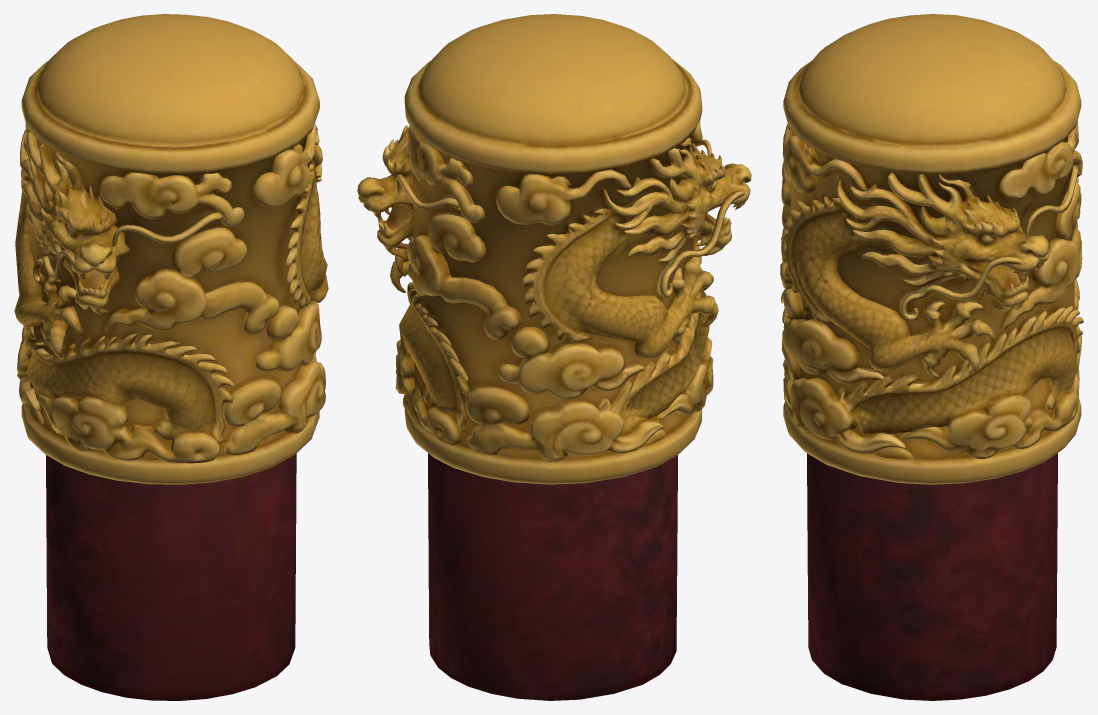
File: niumo_jgb_cap_m.glb
3 views of the same model, side by side, from view 1: azimuth 30°, elevation 25°; view 2: azimuth 150°, elevation 25°; view 3: azimuth 270°, elevation 25° (orthographic).
Visible parts, largest first — view 1: tripo_node_96cb0181-10e9-421b-9aff-7b646eef34cb; view 2: tripo_node_96cb0181-10e9-421b-9aff-7b646eef34cb; view 3: tripo_node_96cb0181-10e9-421b-9aff-7b646eef34cb.
Part boxes in pixels (bbox=[...]): tripo_node_96cb0181-10e9-421b-9aff-7b646eef34cb: bbox=[14, 14, 328, 700]; tripo_node_96cb0181-10e9-421b-9aff-7b646eef34cb: bbox=[357, 14, 751, 700]; tripo_node_96cb0181-10e9-421b-9aff-7b646eef34cb: bbox=[780, 14, 1083, 700].
Bounding box in the file's own units: 0.4995 × 0.9995 × 0.4517.
1 material, 1 textured.
